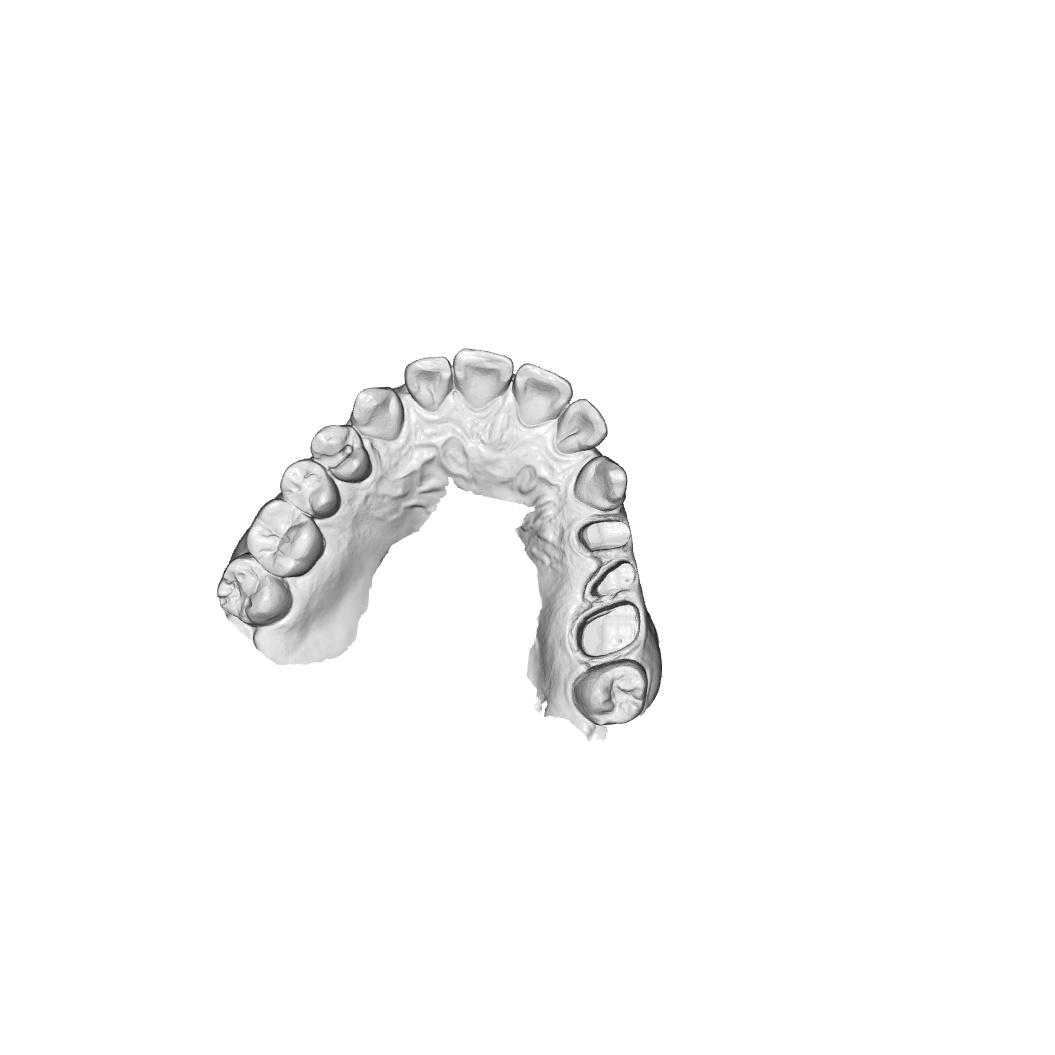canine: (572, 454, 629, 512), (350, 385, 405, 442)
crown: (567, 598, 643, 661), (582, 555, 638, 604), (572, 517, 633, 557)
incisor: (511, 360, 573, 429), (452, 347, 515, 411), (554, 397, 609, 455), (403, 354, 453, 412)
molar: (246, 497, 326, 579), (215, 552, 293, 628), (571, 657, 650, 727)
premolar: (279, 456, 342, 520), (309, 422, 373, 484)
